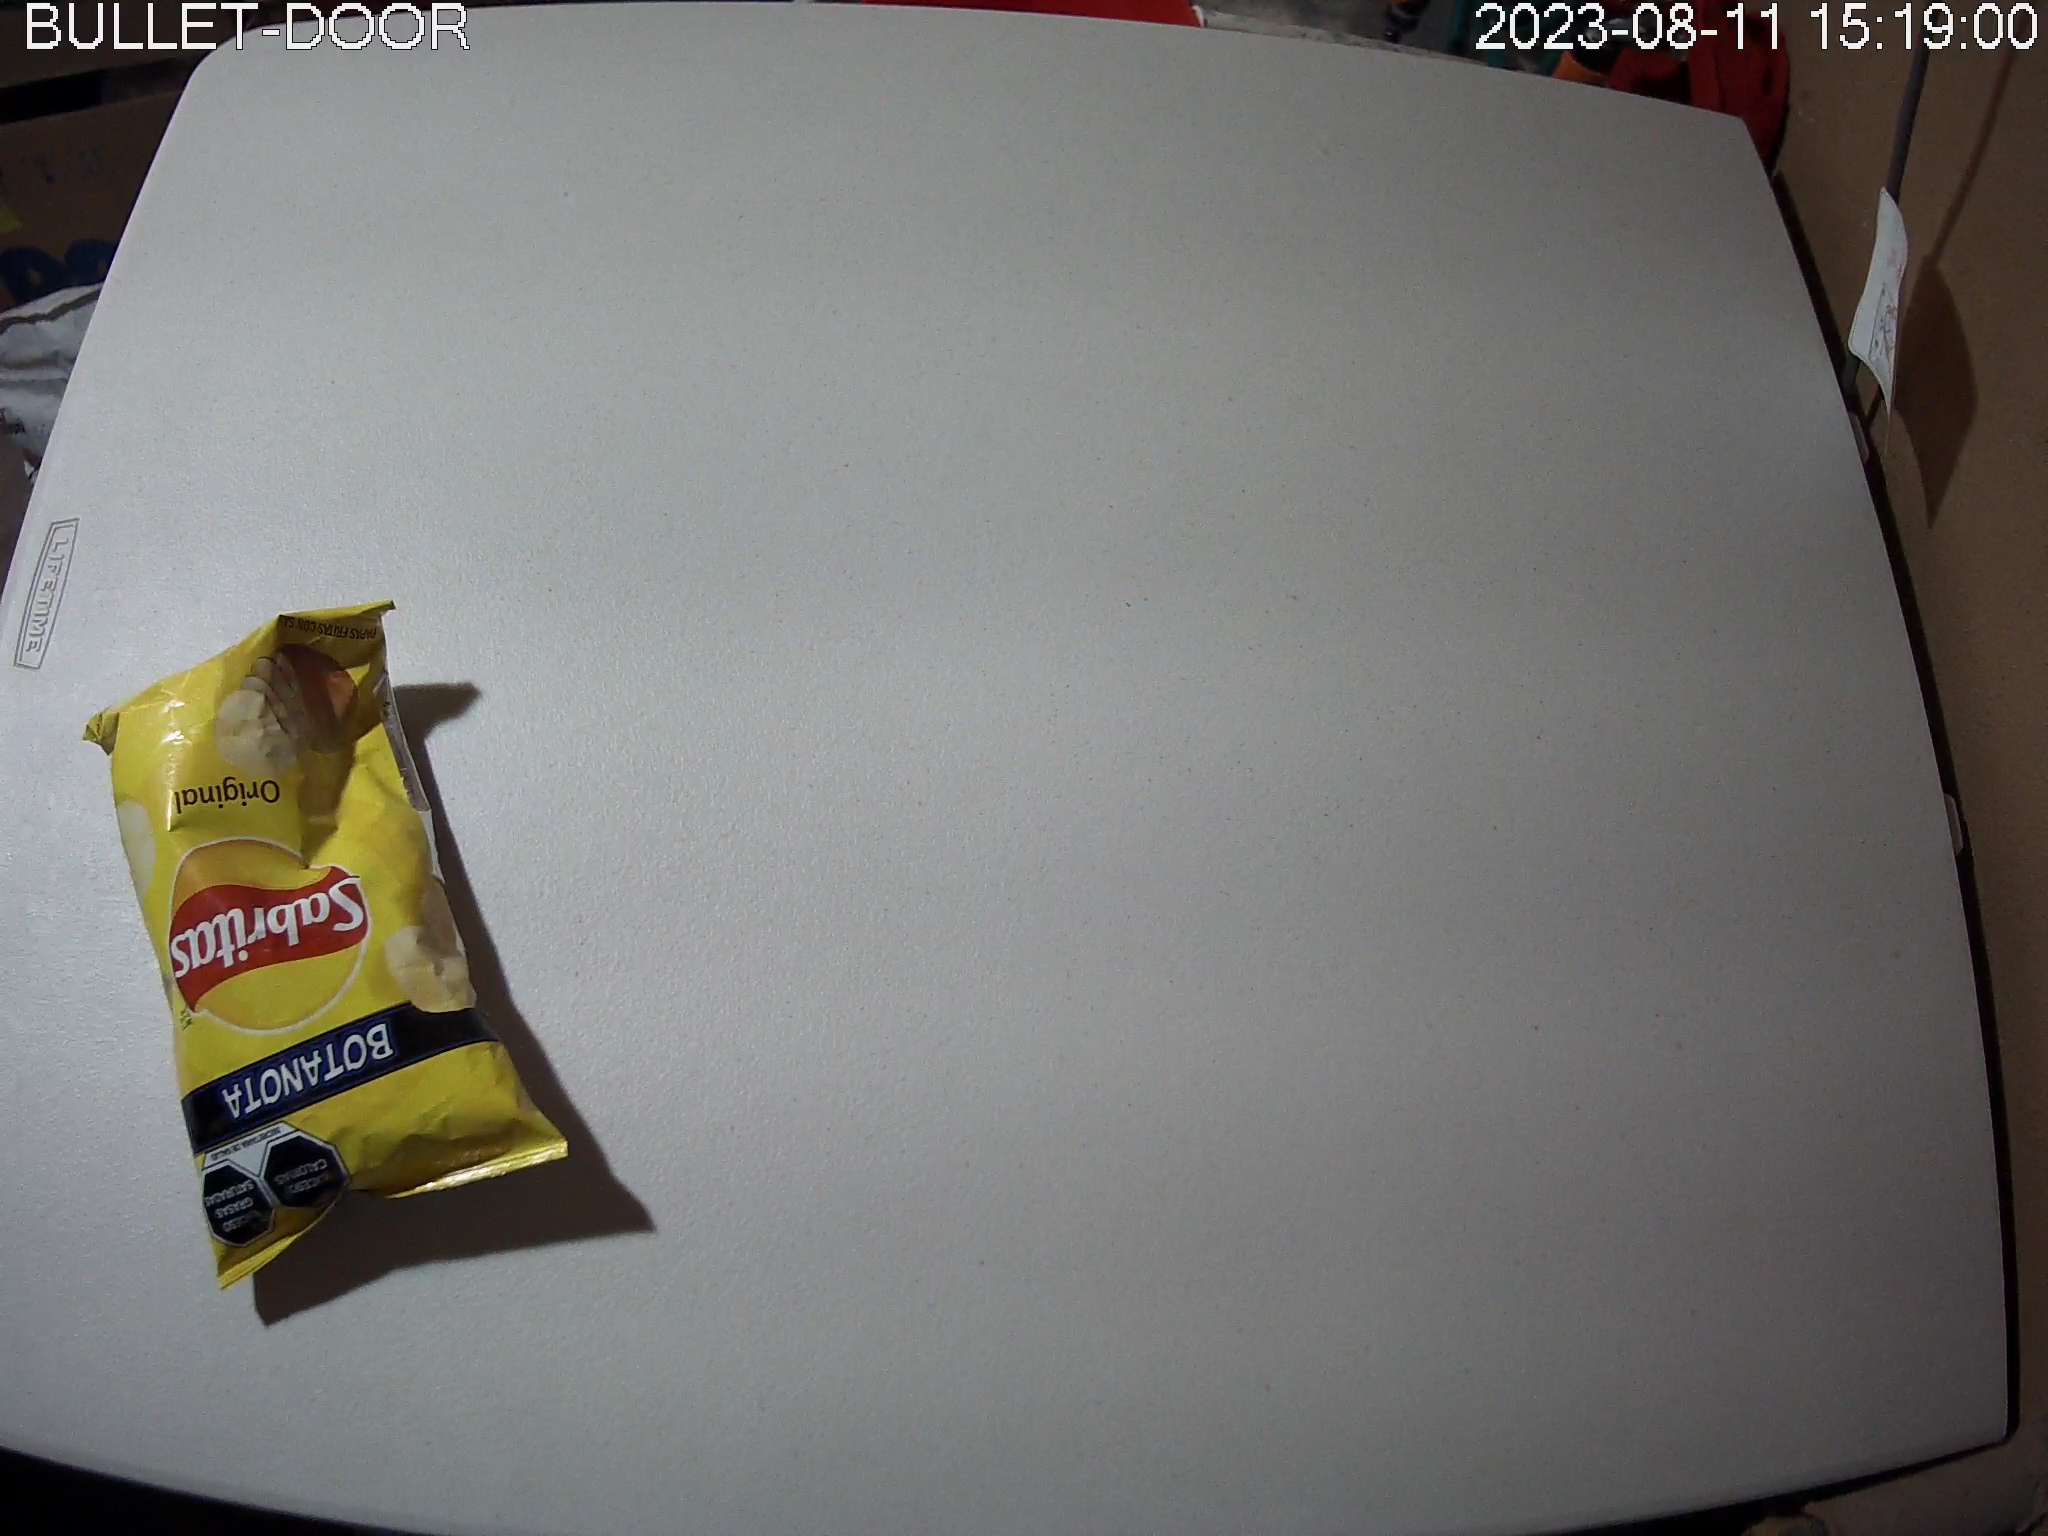Sabritas_64_F: (84, 599, 569, 1292)
